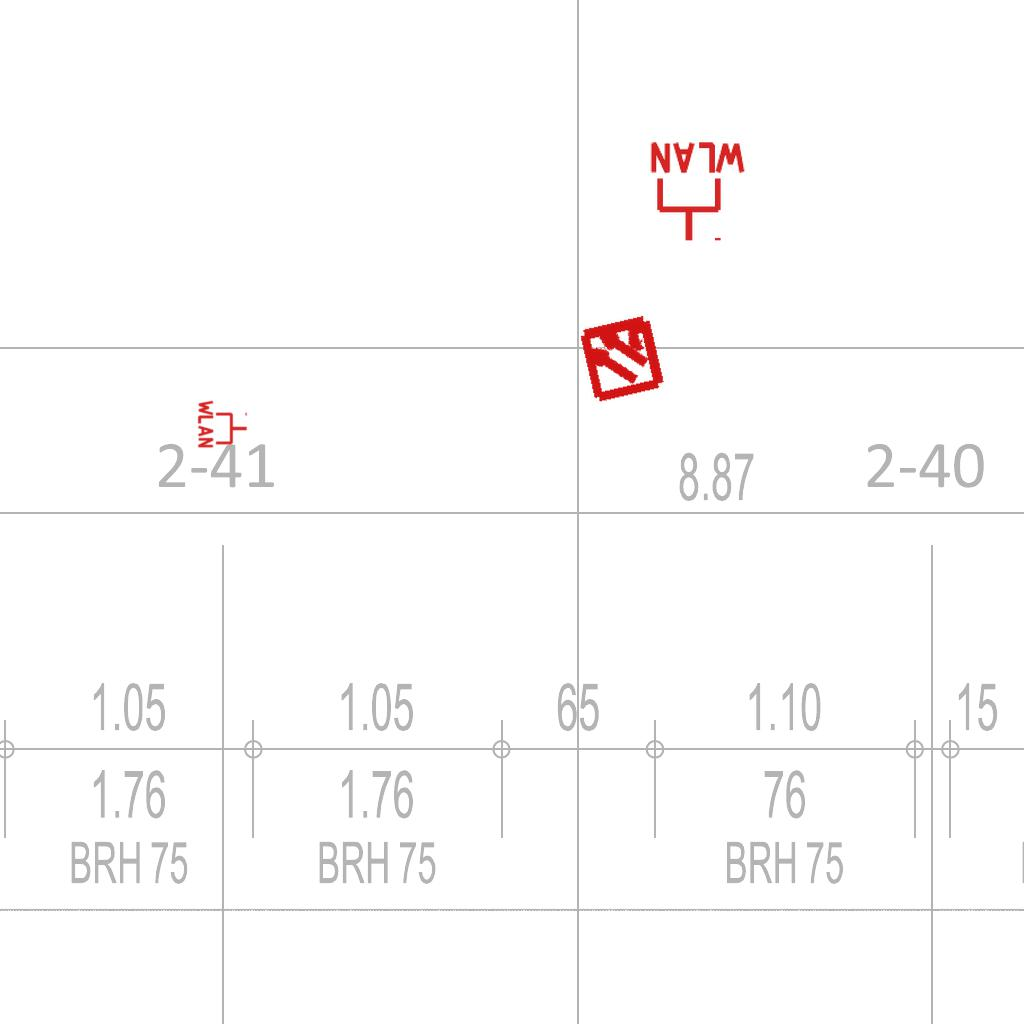OT_Multisensormelder_(Kombination_RMO_WMD): (553, 288, 690, 425)
WLAN: (646, 140, 750, 245), (197, 398, 249, 450)
